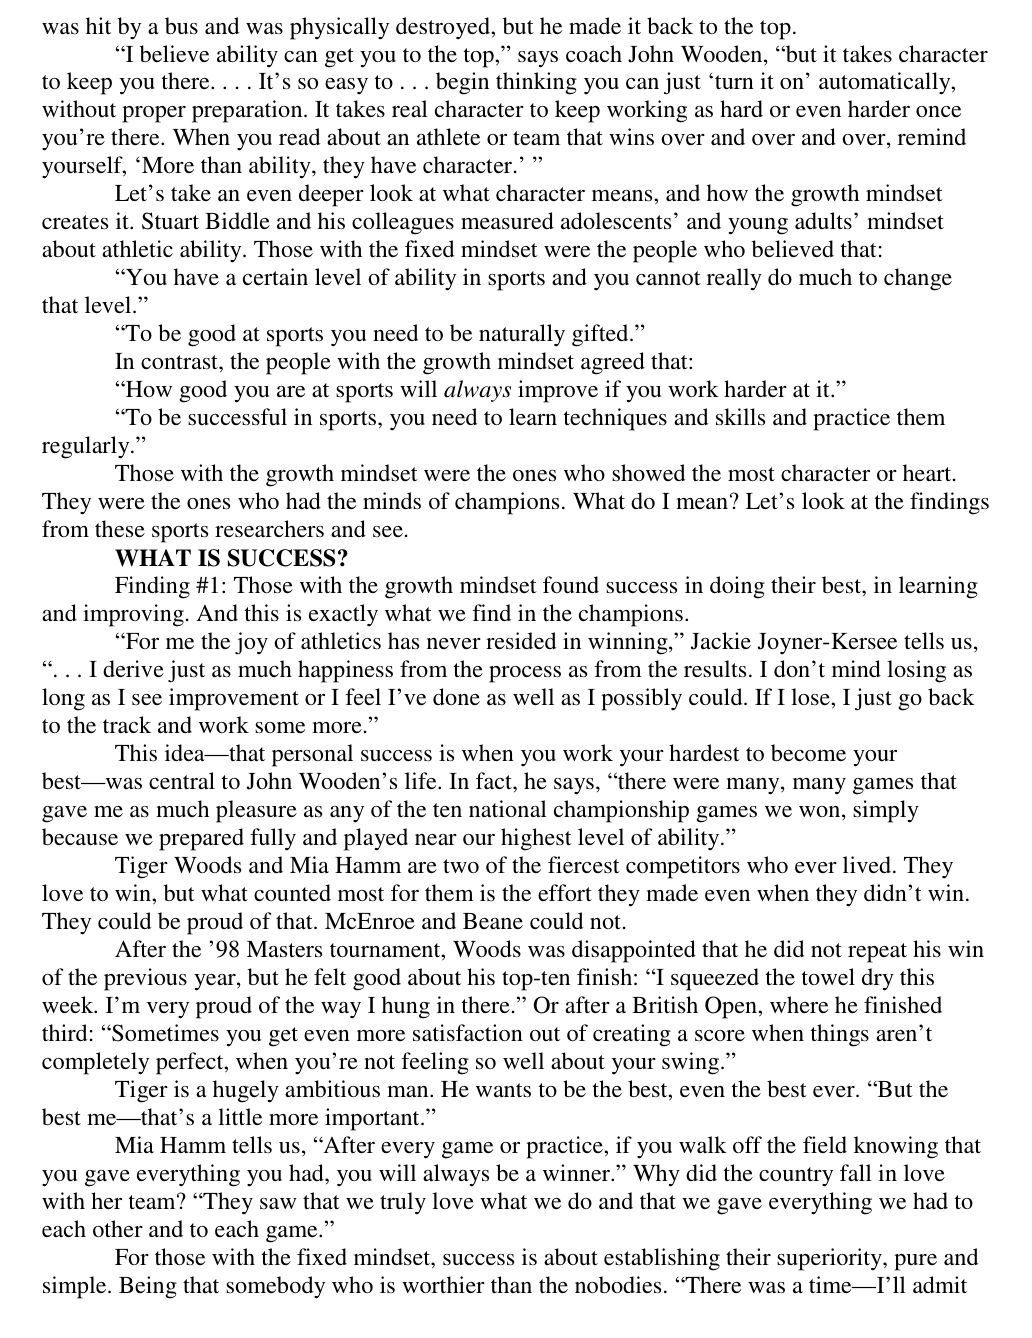latin: (34, 1075, 982, 1309), (27, 857, 984, 1075), (33, 181, 958, 406), (39, 14, 991, 180), (38, 571, 984, 734), (38, 406, 994, 548), (34, 736, 960, 849), (114, 548, 348, 571)
